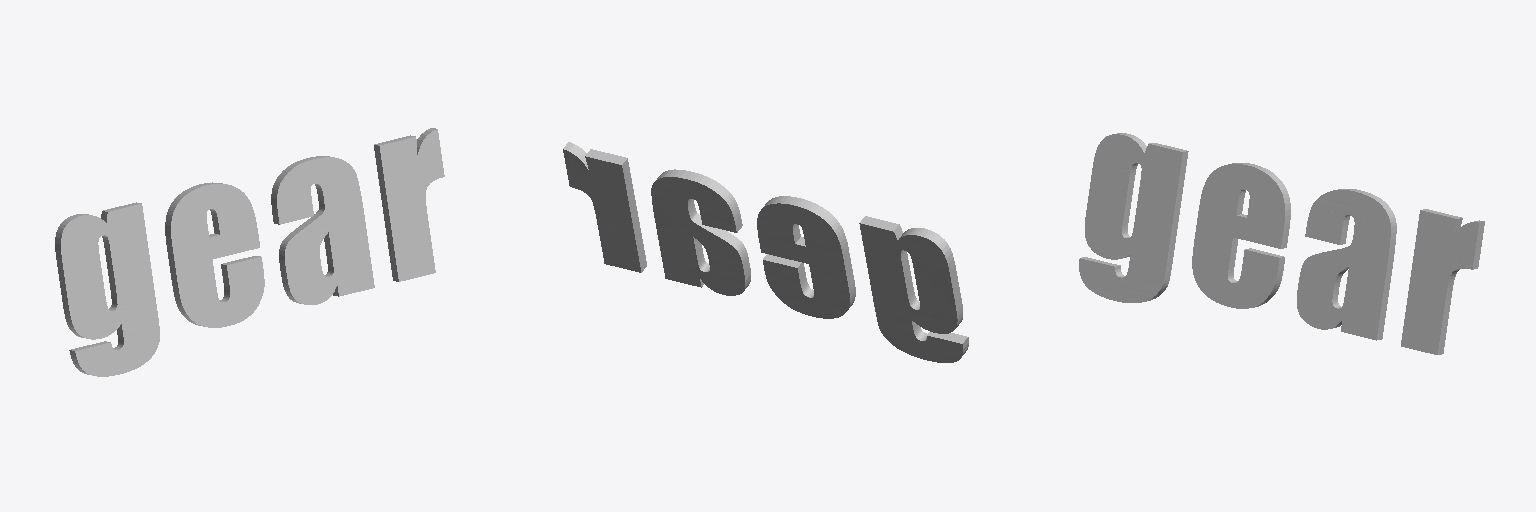
The model's file is gear.obj.
3 renders of one model, left to right at view 1: azimuth 30°, elevation 25°; view 2: azimuth 150°, elevation 25°; view 3: azimuth 330°, elevation 25°, orthographic.
Visible parts, largest first — view 1: Text.006; view 2: Text.006; view 3: Text.006.
Part boxes in pixels (bbox=[...]): Text.006: bbox=[55, 128, 444, 376]; Text.006: bbox=[563, 142, 968, 362]; Text.006: bbox=[1079, 133, 1484, 354].
Bounding box in the file's own units: 0.0217 × 0.0081 × 0.0029.